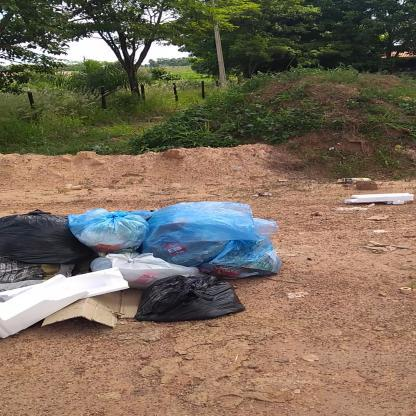lixo: (9, 210, 248, 324)
